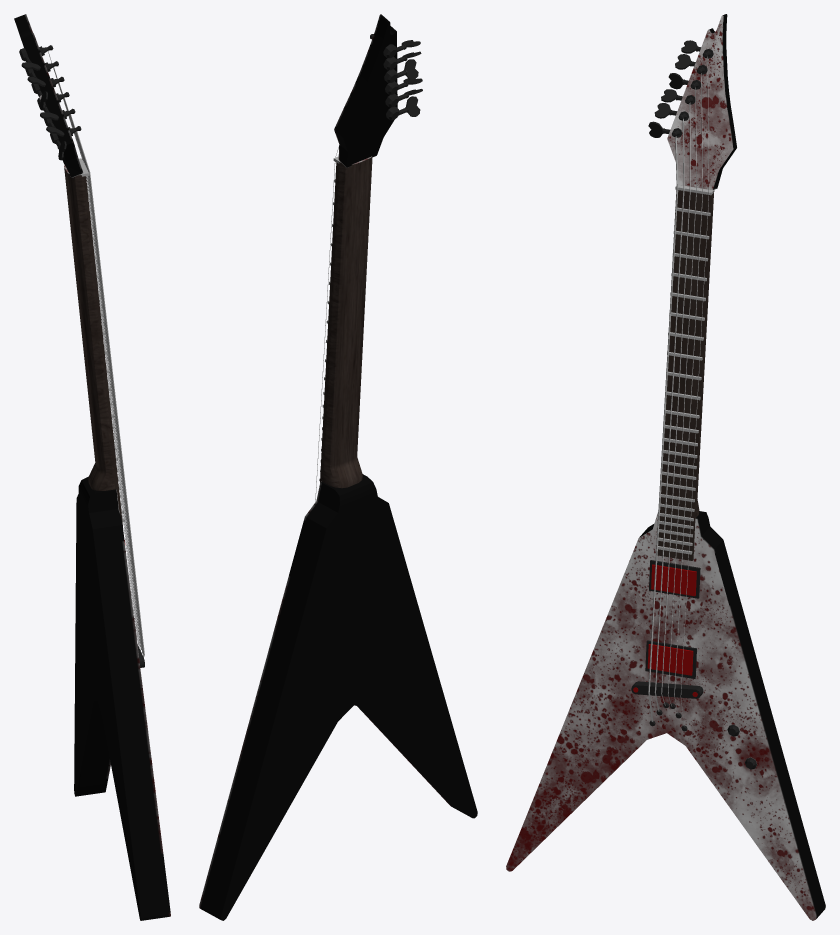
Rendered from guitar.glb.
3 views of the same model, side by side, from view 1: azimuth 30°, elevation 25°; view 2: azimuth 150°, elevation 25°; view 3: azimuth 270°, elevation 25° (orthographic). The views are drawn at different scales.
Parts seen in each view (by area): view 1: pasted__pasted__pasted__polySurface16, pasted__polySurface39, LP__strings1, pasted__polySurface20, pasted__polySurface40; view 2: pasted__pasted__pasted__polySurface16, pasted__polySurface39, pasted__polySurface20, pasted__polySurface40; view 3: pasted__pasted__pasted__polySurface16, pasted__polySurface40, pasted__polySurface20, LP__strings1, pasted__pasted__pasted__polySurface21, pasted__pasted__pasted__polySurface22, pasted__pasted__pasted__polySurface13.
Part boxes in pixels (box(x1,y1,x2,y2)): pasted__pasted__pasted__polySurface16: box(74, 476, 170, 920); pasted__polySurface39: box(64, 164, 116, 490); LP__strings1: box(48, 51, 144, 657); pasted__polySurface20: box(14, 14, 83, 177); pasted__polySurface40: box(82, 176, 123, 528); pasted__pasted__pasted__polySurface16: box(199, 474, 477, 920); pasted__polySurface39: box(322, 156, 372, 488); pasted__polySurface20: box(334, 14, 397, 167); pasted__polySurface40: box(320, 162, 337, 482); pasted__pasted__pasted__polySurface16: box(506, 511, 825, 920); pasted__polySurface40: box(657, 190, 712, 560); pasted__polySurface20: box(667, 14, 736, 189); LP__strings1: box(648, 56, 709, 725); pasted__pasted__pasted__polySurface21: box(647, 644, 693, 675); pasted__pasted__pasted__polySurface22: box(651, 564, 696, 596); pasted__pasted__pasted__polySurface13: box(631, 681, 703, 698).
Bounding box in the file's own units: 19.68 × 110 × 37.54.
83 materials, 83 textured.
